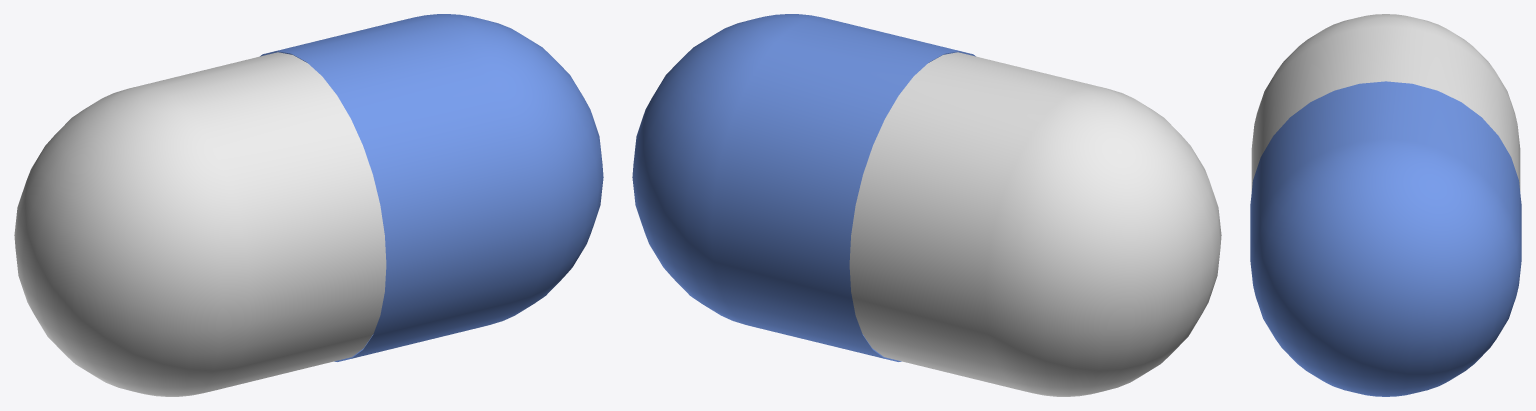
File: med.fbx
3 views of the same model, side by side, from view 1: azimuth 30°, elevation 25°; view 2: azimuth 150°, elevation 25°; view 3: azimuth 270°, elevation 25° (orthographic). The views are drawn at different scales.
Parts seen in each view (by area): view 1: 球; view 2: 球; view 3: 球.
Part boxes in pixels (<box>): 球: <box>14,14,603,396</box>; 球: <box>632,14,1221,396</box>; 球: <box>1250,14,1521,396</box>.
Bounding box in the file's own units: 4.16 × 2.09 × 2.09.
